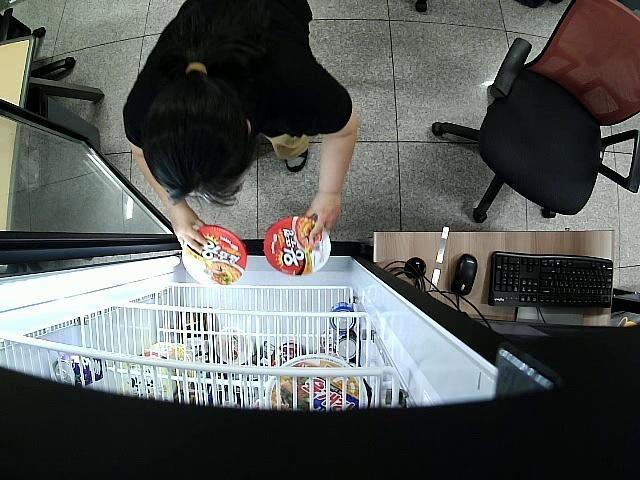10_wangTtukkeong: (182, 224, 248, 284), (265, 216, 330, 276)
